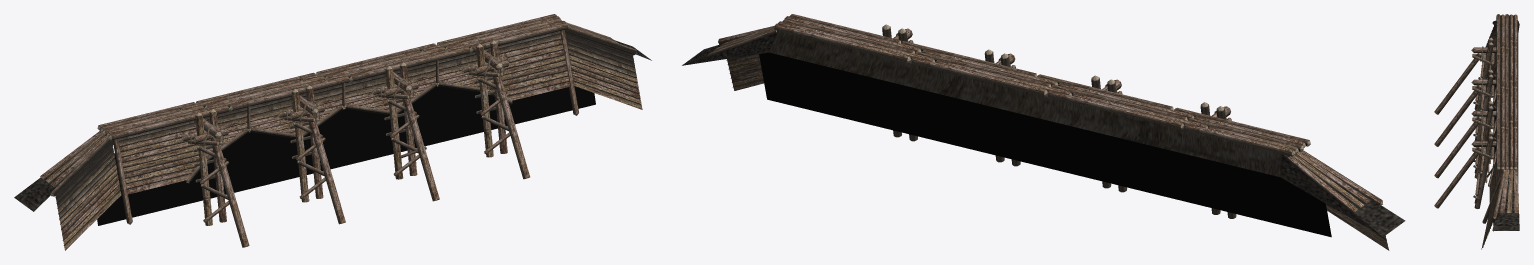
Rendered from bridge_edge_wooden.dae.
3 renders of one model, left to right at view 1: azimuth 30°, elevation 25°; view 2: azimuth 150°, elevation 25°; view 3: azimuth 270°, elevation 25°, orthographic. The views are drawn at different scales.
Parts seen in each view (by area): view 1: Cube_002; view 2: Cube_002; view 3: Cube_002.
Boxes of the visible parts, <box> form: Cube_002: <box>14,14,651,250</box>; Cube_002: <box>682,14,1405,250</box>; Cube_002: <box>1434,14,1519,249</box>.
Size of the model in its own units: 86.66 by 15.13 by 14.58.
